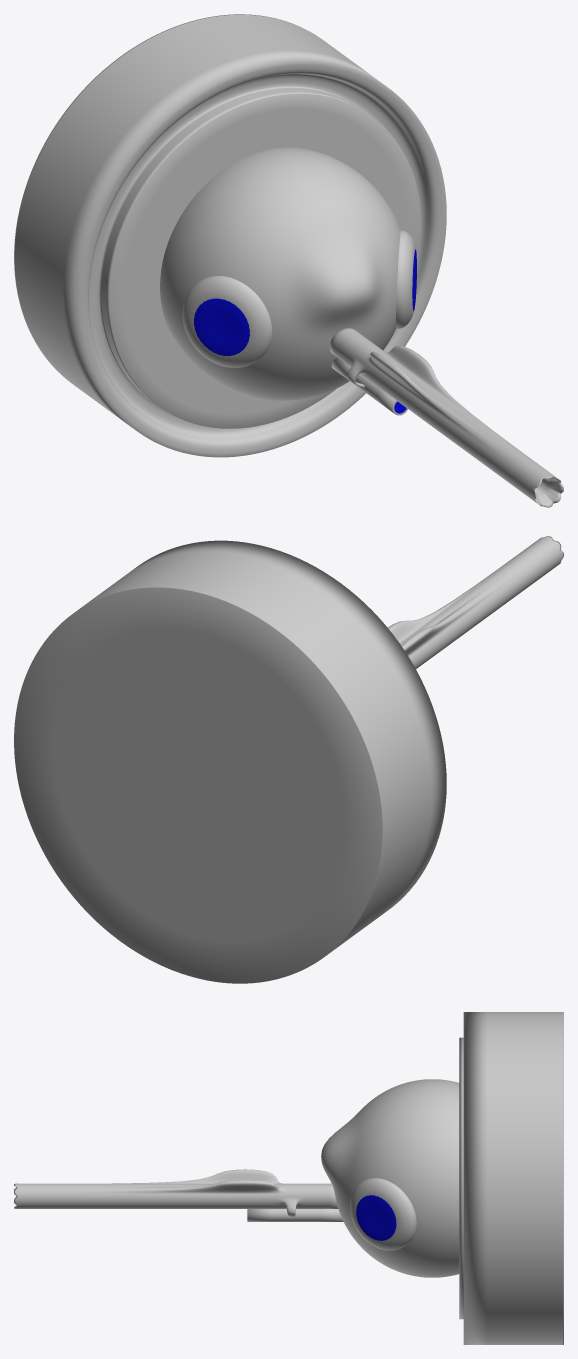
File: WallTurret.fbx
3 views of the same model, one above another, from view 1: azimuth 30°, elevation 25°; view 2: azimuth 150°, elevation 25°; view 3: azimuth 270°, elevation 25° (orthographic). The views are drawn at different scales.
Parts seen in each view (by area): view 1: TurretBase, TurretGun; view 2: TurretBase, TurretGun; view 3: TurretBase, TurretGun.
Boxes of the visible parts, x1,y1,x2,y2 form: TurretBase: [14, 14, 446, 457]; TurretGun: [160, 147, 563, 507]; TurretBase: [14, 540, 446, 983]; TurretGun: [388, 536, 563, 668]; TurretBase: [459, 1012, 563, 1344]; TurretGun: [14, 1079, 459, 1277].
Bounding box in the file's own units: 199 × 199 × 328.
